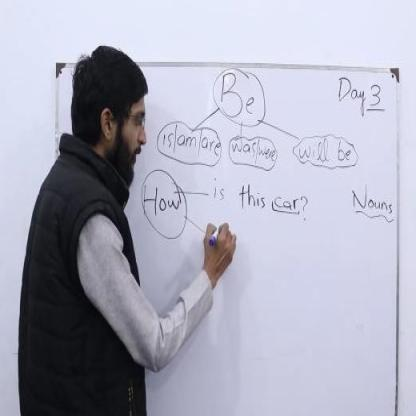Handwritten text: (208, 174, 301, 230), (161, 123, 221, 166), (140, 172, 181, 233), (217, 69, 256, 123), (332, 67, 366, 126), (298, 136, 351, 171), (349, 178, 394, 215), (232, 133, 275, 169)
Lecturer: (47, 41, 162, 416)
Whiteboard: (53, 54, 401, 416)
